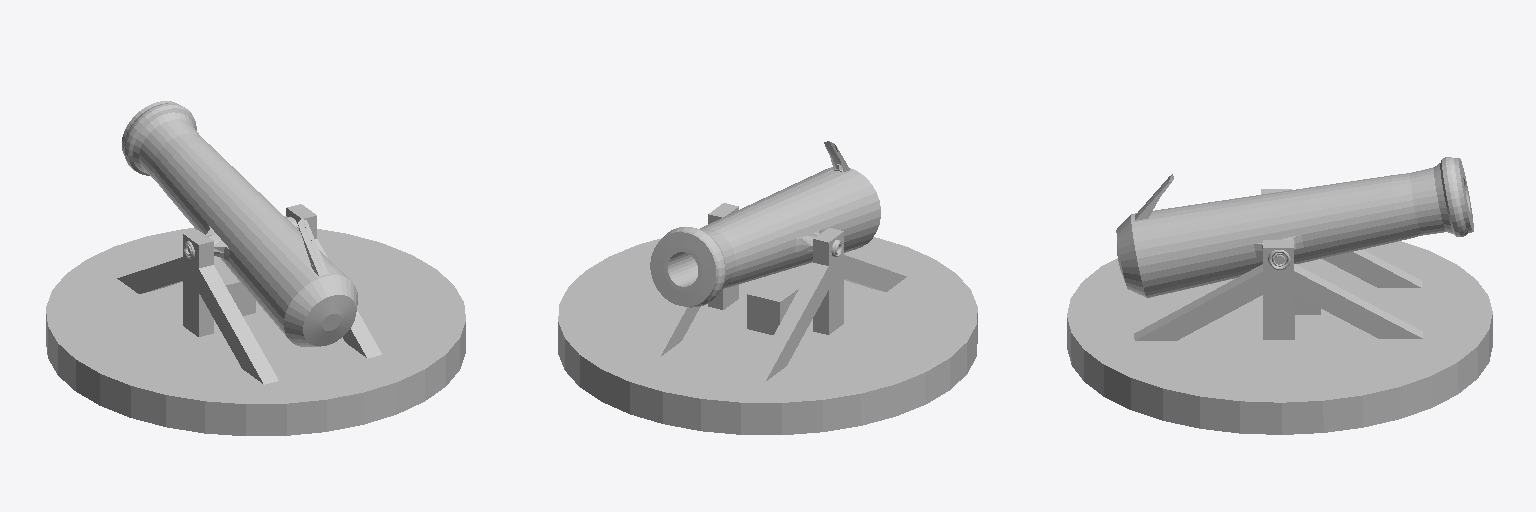
Rendered from CannonLeft.obj.
3 renders of one model, left to right at view 1: azimuth 30°, elevation 25°; view 2: azimuth 150°, elevation 25°; view 3: azimuth 270°, elevation 25°, orthographic.
Parts seen in each view (by area): view 1: Cylinder, Canon_Cylinder, Canon_Frame_Cube.001, Canon_Frame_Cube, Cube.001; view 2: Cylinder, Canon_Cylinder, Canon_Frame_Cube.001, Canon_Frame_Cube, Cube.001; view 3: Cylinder, Canon_Cylinder, Canon_Frame_Cube, Canon_Frame_Cube.001, Cube.001.
Part boxes in pixels (x1,y1,x2,y2): Cylinder: (46,228,465,435); Canon_Cylinder: (122,101,357,346); Canon_Frame_Cube.001: (117,230,278,384); Canon_Frame_Cube: (286,204,381,358); Cube.001: (216,266,255,315); Cylinder: (558,237,977,434); Canon_Cylinder: (650,141,880,307); Canon_Frame_Cube.001: (750,228,906,381); Canon_Frame_Cube: (645,203,738,356); Cube.001: (747,280,798,334); Cylinder: (1067,241,1492,434); Canon_Cylinder: (1116,157,1473,297); Canon_Frame_Cube: (1134,240,1422,340); Canon_Frame_Cube.001: (1261,189,1421,287); Cube.001: (1294,263,1320,314).
Bounding box in the file's own units: 21.63 × 10.39 × 22.